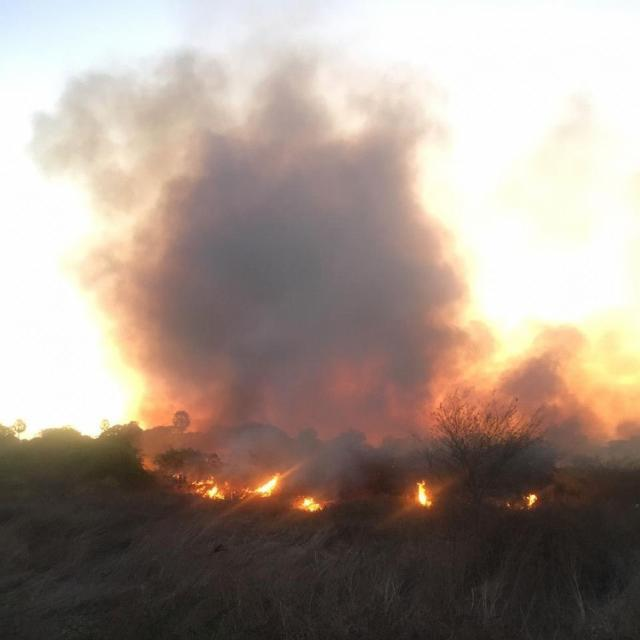Fire: (246, 470, 284, 494), (192, 474, 226, 500), (412, 482, 436, 507), (297, 497, 323, 512), (521, 491, 539, 509)
